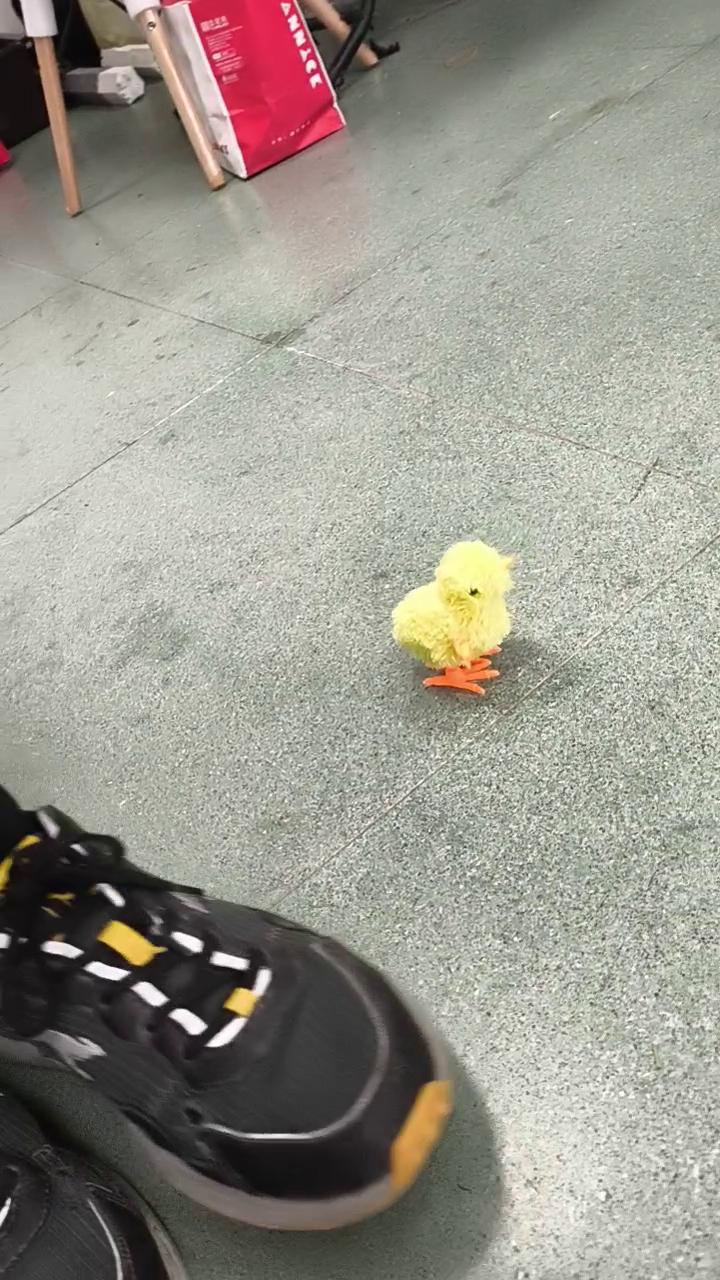yellow chicken: (386, 536, 520, 699)
